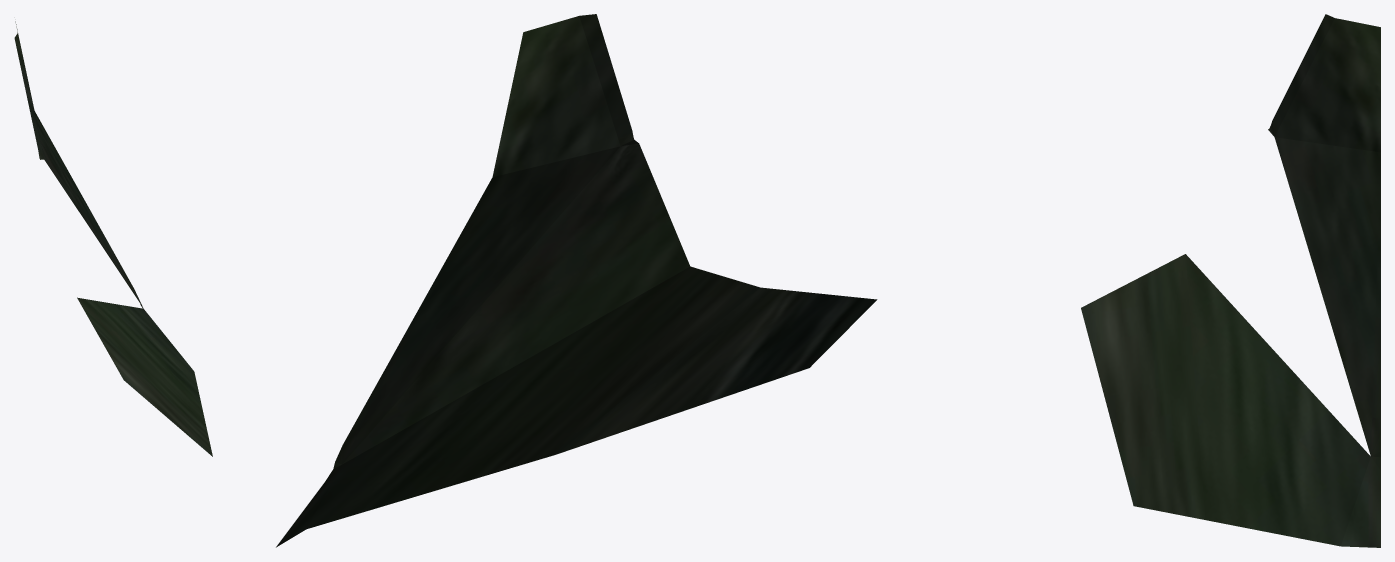
3 views of the same model, side by side, from view 1: azimuth 30°, elevation 25°; view 2: azimuth 150°, elevation 25°; view 3: azimuth 270°, elevation 25° (orthographic). The views are drawn at different scales.
Size of the model in its own units: 1.52 by 2.95 by 2.95.
Materials: 2 (2 with a texture image).
